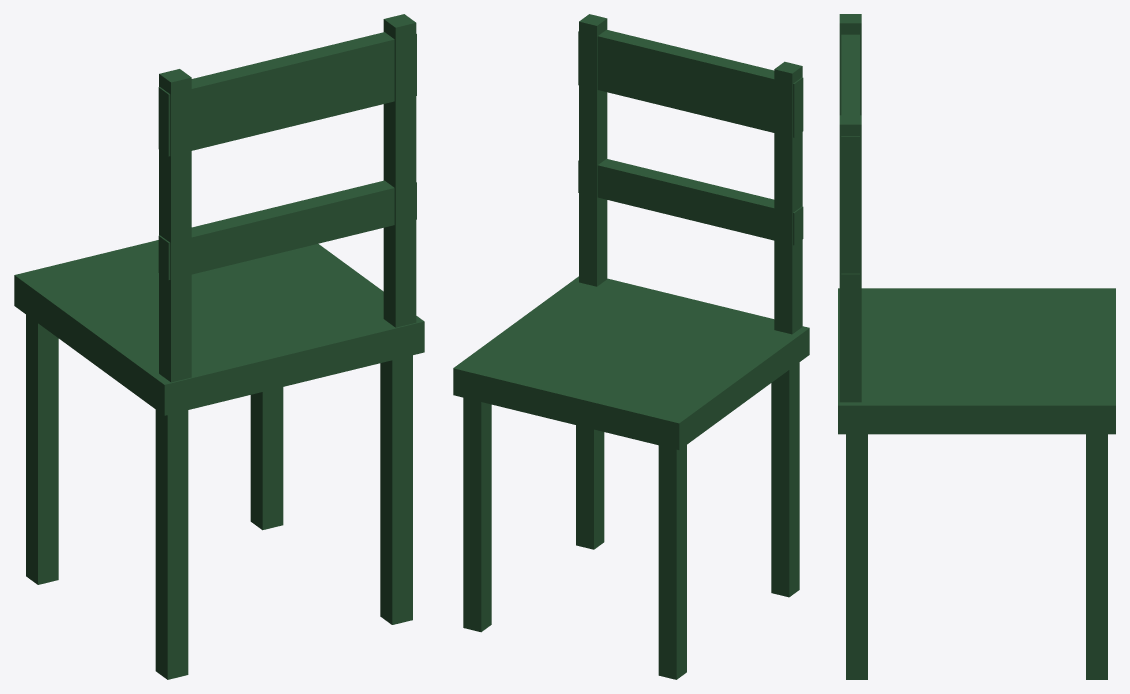
File: chair-metal.glb
3 renders of one model, left to right at view 1: azimuth 30°, elevation 25°; view 2: azimuth 150°, elevation 25°; view 3: azimuth 270°, elevation 25°, orthographic. The views are drawn at different scales.
Visible parts, largest first — view 1: chair-metal; view 2: chair-metal; view 3: chair-metal.
Boxes of the visible parts, x1,y1,x2,y2 form: chair-metal: [14, 14, 424, 679]; chair-metal: [453, 14, 809, 679]; chair-metal: [838, 14, 1115, 679].
Bounding box in the file's own units: 0.44 × 0.97 × 0.44.
